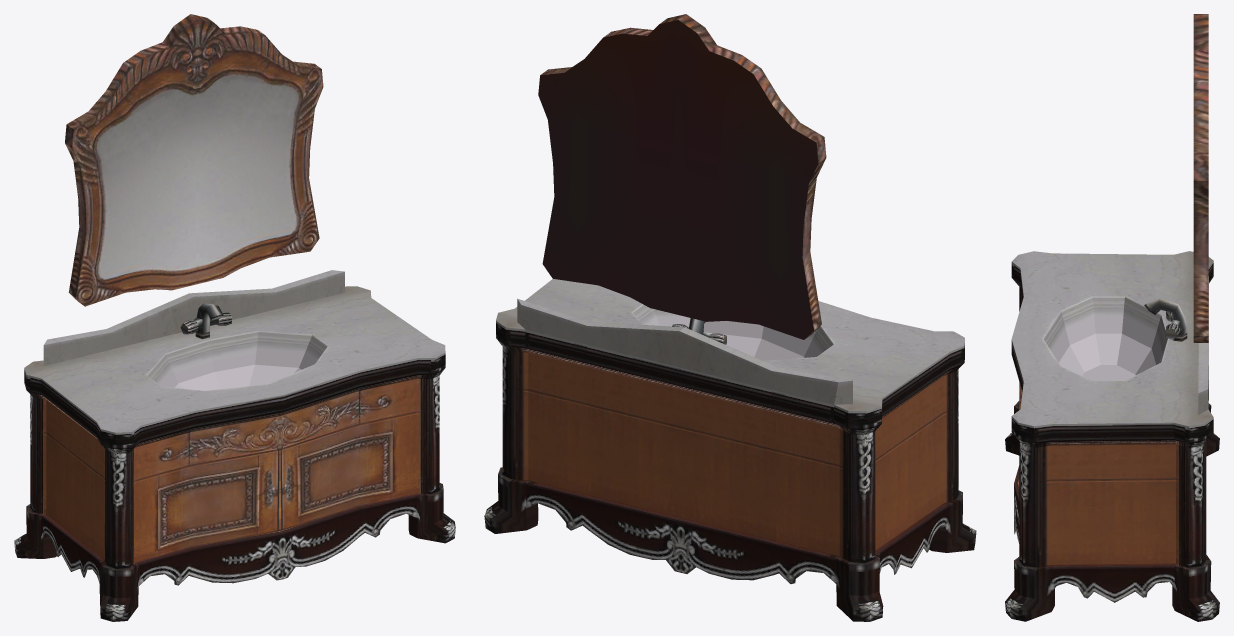
Rendered from furni_0201216.FBX.
3 views of the same model, side by side, from view 1: azimuth 30°, elevation 25°; view 2: azimuth 150°, elevation 25°; view 3: azimuth 270°, elevation 25° (orthographic). The views are drawn at different scales.
Visible parts, largest first — view 1: furni_0201216; view 2: furni_0201216; view 3: furni_0201216.
Part boxes in pixels (x1,y1,x2,y2): furni_0201216: [14, 14, 455, 621]; furni_0201216: [484, 14, 976, 621]; furni_0201216: [1005, 14, 1219, 621].
Bounding box in the file's own units: 161 × 215 × 80.67.
Materials: 1 (1 with a texture image).
